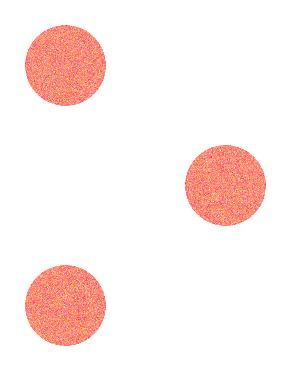O: (20, 19, 271, 348)
